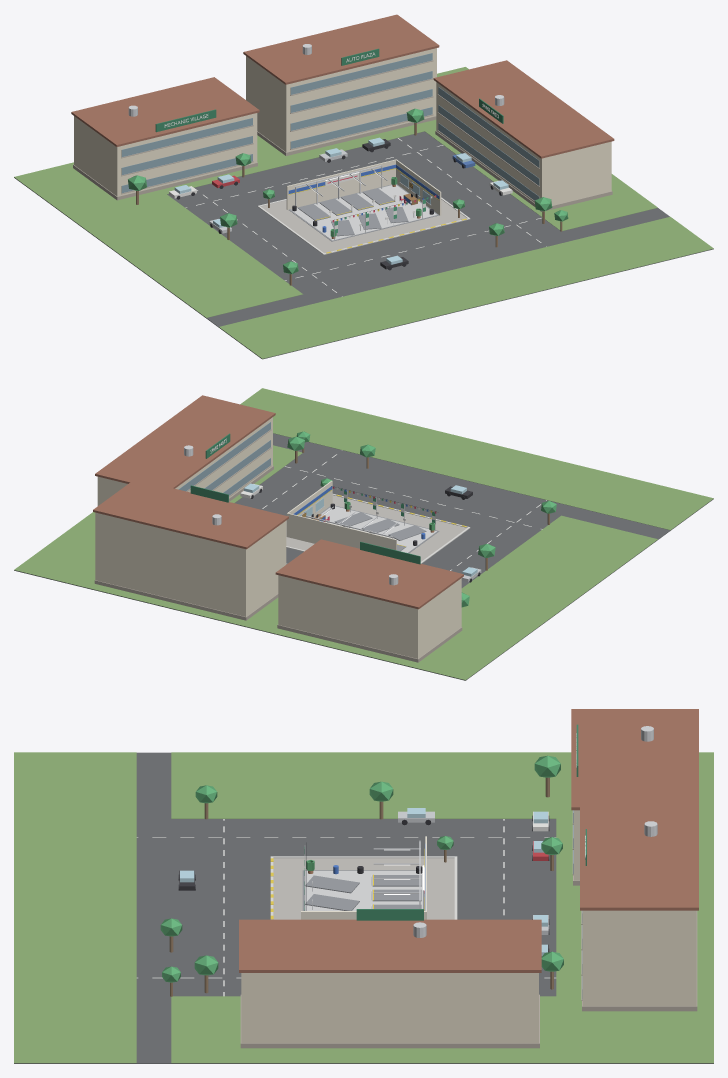
The model's file is magmus-autos.glb.
The picture shows the model from 3 angles, top to bottom: view 1: azimuth 30°, elevation 25°; view 2: azimuth 150°, elevation 25°; view 3: azimuth 270°, elevation 25°; orthographic projection. The views are drawn at different scales.
Parts seen in each view (by area): view 1: Grass, Asphalt, Roof, Cream, Window.003, Trim, Wall, Paving, TileDark, Tile, Leaf, SignBg (+6 smaller); view 2: Grass, Cream, Roof, Asphalt, Wall, Trim, Paving, Window.003, Leaf, SignBg, TileDark, Tile (+2 smaller); view 3: Grass, Asphalt, Roof, Cream, Paving, Leaf, Trim, TileDark, Tile, Steel, SignBg, Kerb (+4 smaller).
Boxes of the visible parts, x1=… form: Grass: x1=14, y1=67, x2=713, y2=358; Asphalt: x1=14, y1=131, x2=713, y2=359; Roof: x1=71, y1=14, x2=614, y2=158; Cream: x1=74, y1=48, x2=611, y2=205; Window.003: x1=121, y1=53, x2=539, y2=200; Trim: x1=73, y1=60, x2=612, y2=211; Wall: x1=286, y1=159, x2=441, y2=215; Paving: x1=261, y1=199, x2=466, y2=252; TileDark: x1=289, y1=184, x2=439, y2=241; Tile: x1=291, y1=185, x2=436, y2=240; Leaf: x1=128, y1=108, x2=568, y2=274; SignBg: x1=155, y1=48, x2=503, y2=132; Grass: x1=14, y1=388, x2=713, y2=680; Cream: x1=95, y1=417, x2=461, y2=658; Roof: x1=93, y1=395, x2=463, y2=609; Asphalt: x1=14, y1=433, x2=713, y2=680; Wall: x1=286, y1=480, x2=396, y2=550; Trim: x1=94, y1=429, x2=462, y2=662; Paving: x1=286, y1=495, x2=466, y2=561; Window.003: x1=178, y1=422, x2=270, y2=495; Leaf: x1=287, y1=431, x2=556, y2=607; SignBg: x1=190, y1=433, x2=420, y2=564; TileDark: x1=320, y1=505, x2=439, y2=553; Tile: x1=321, y1=506, x2=436, y2=552; Grass: x1=14, y1=752, x2=713, y2=1063; Asphalt: x1=14, y1=752, x2=713, y2=1063; Roof: x1=239, y1=709, x2=698, y2=972; Cream: x1=241, y1=810, x2=696, y2=1043; Paving: x1=273, y1=858, x2=454, y2=919; Leaf: x1=160, y1=755, x2=563, y2=982; Trim: x1=240, y1=810, x2=697, y2=1048; TileDark: x1=302, y1=870, x2=424, y2=910; Tile: x1=305, y1=871, x2=422, y2=910; Steel: x1=304, y1=726, x2=657, y2=937; SignBg: x1=356, y1=724, x2=586, y2=920; Kerb: x1=270, y1=856, x2=457, y2=919.
Bounding box in the file's own units: 84 × 14.95 × 80.
